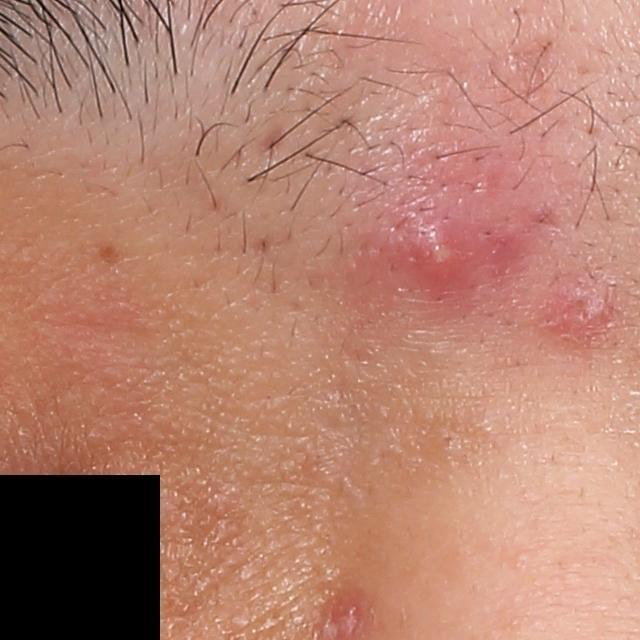papule: (554, 283, 611, 335)
